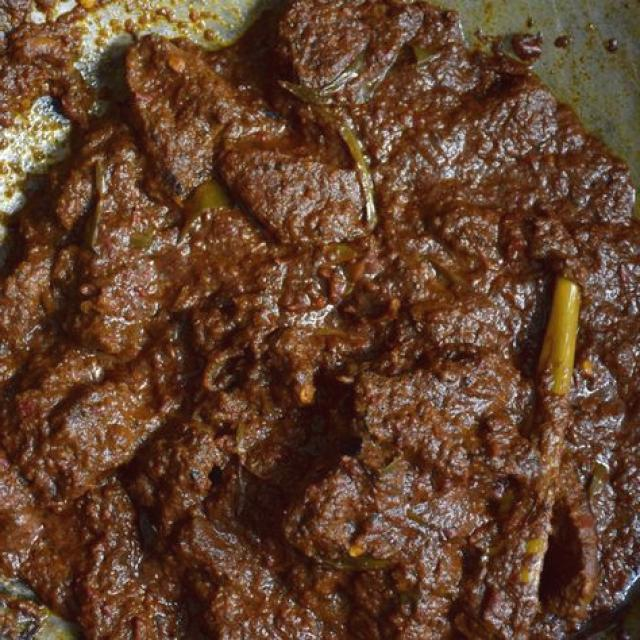rendang: (0, 0, 640, 640)
